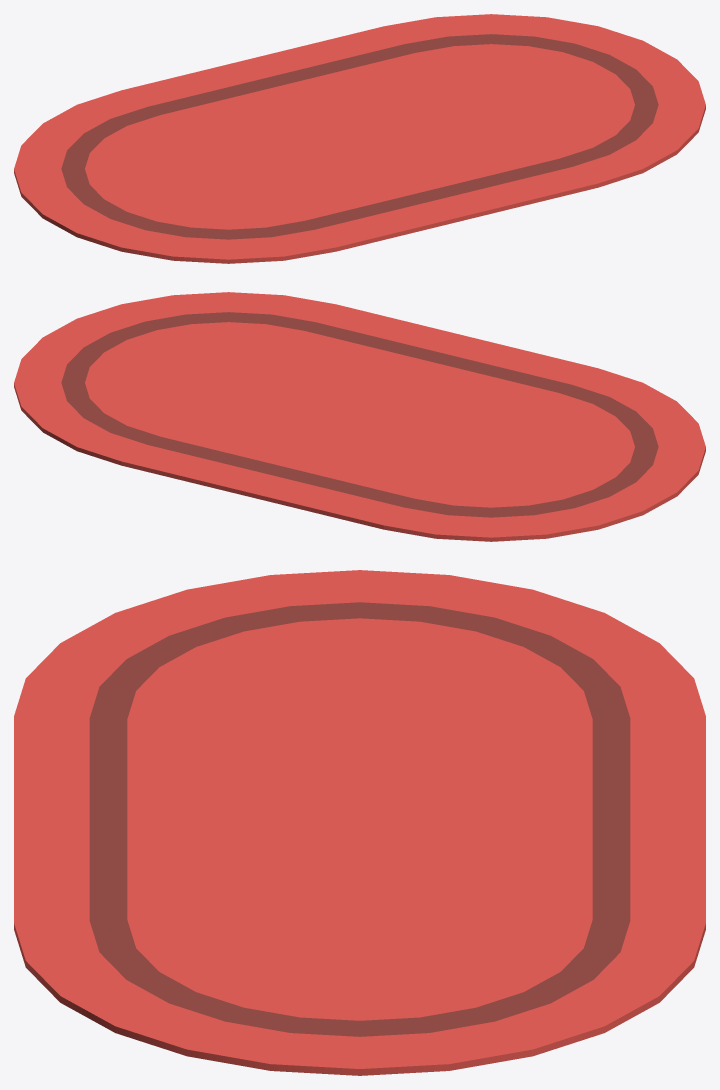
The model's file is roundedRug.glb.
3 views of the same model, one above another, from view 1: azimuth 30°, elevation 25°; view 2: azimuth 150°, elevation 25°; view 3: azimuth 270°, elevation 25° (orthographic). The views are drawn at different scales.
Parts seen in each view (by area): view 1: rugRounded; view 2: rugRounded; view 3: rugRounded.
Boxes of the visible parts, <box> form: rugRounded: <box>14,14,705,263</box>; rugRounded: <box>14,292,705,541</box>; rugRounded: <box>14,570,705,1075</box>.
Size of the model in its own units: 1.57 by 0.01 by 0.92.
